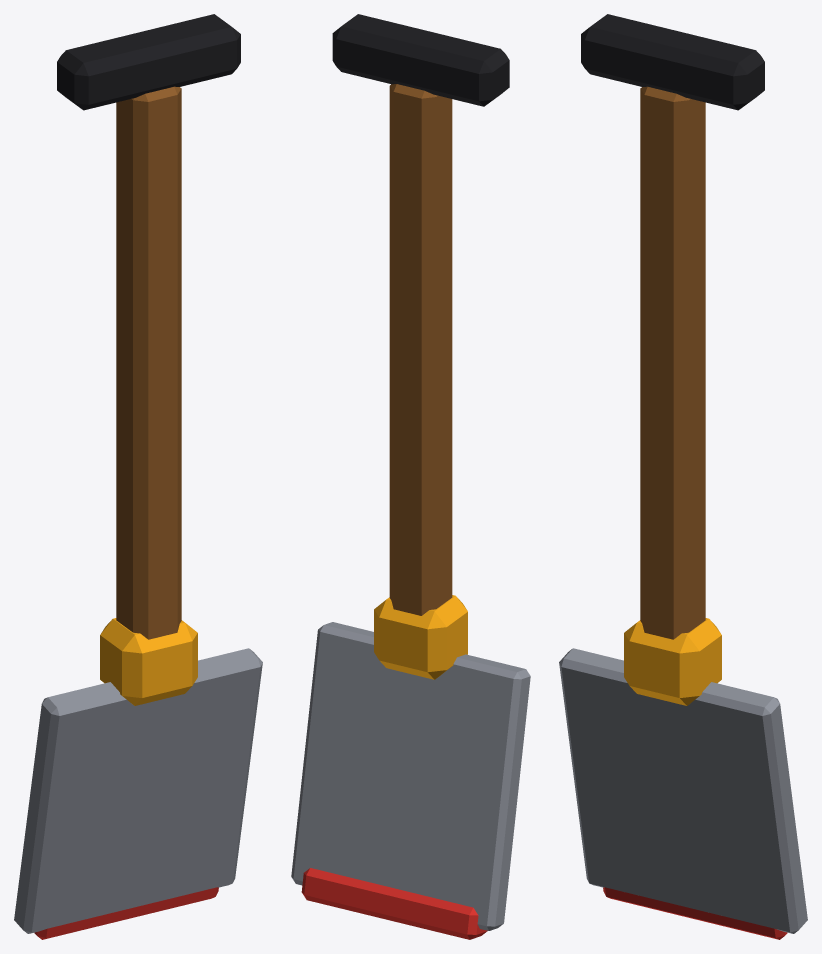
Rendered from dig_shovel.fbx.
The picture shows the model from 3 angles, left to right: view 1: azimuth 30°, elevation 25°; view 2: azimuth 150°, elevation 25°; view 3: azimuth 330°, elevation 25°; orthographic projection. The views are drawn at different scales.
Parts seen in each view (by area): view 1: Root; view 2: Root; view 3: Root.
Boxes of the visible parts, box(x1,y1,x2,y2) form: Root: box(14, 14, 262, 939); Root: box(291, 14, 530, 939); Root: box(559, 14, 807, 939).
Bounding box in the file's own units: 1.4 × 5.66 × 0.6301.
